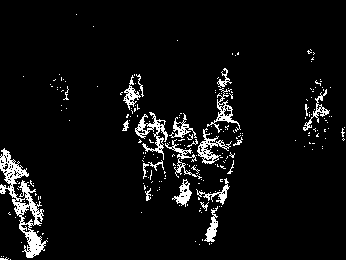person: (1, 148, 46, 259), (195, 125, 230, 243), (135, 112, 168, 201), (168, 112, 195, 205), (121, 73, 139, 132), (215, 67, 235, 116)
